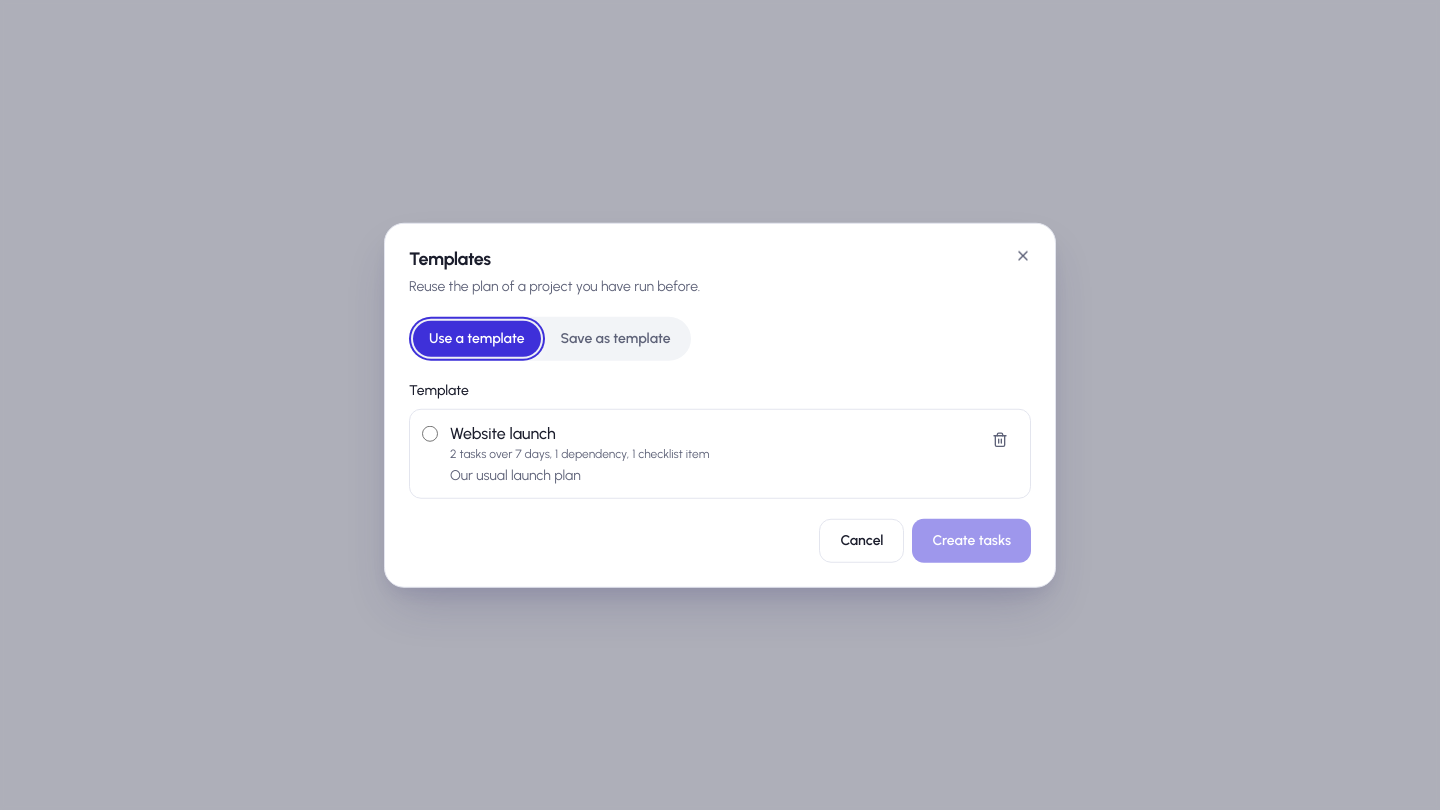
deleting a template › an org admin can delete after confirming
This screenshot has width=1440, height=810.
Step 1. Click the button named "Delete the Website launch template" → (1000, 439), box 982,421 -> 1018,457
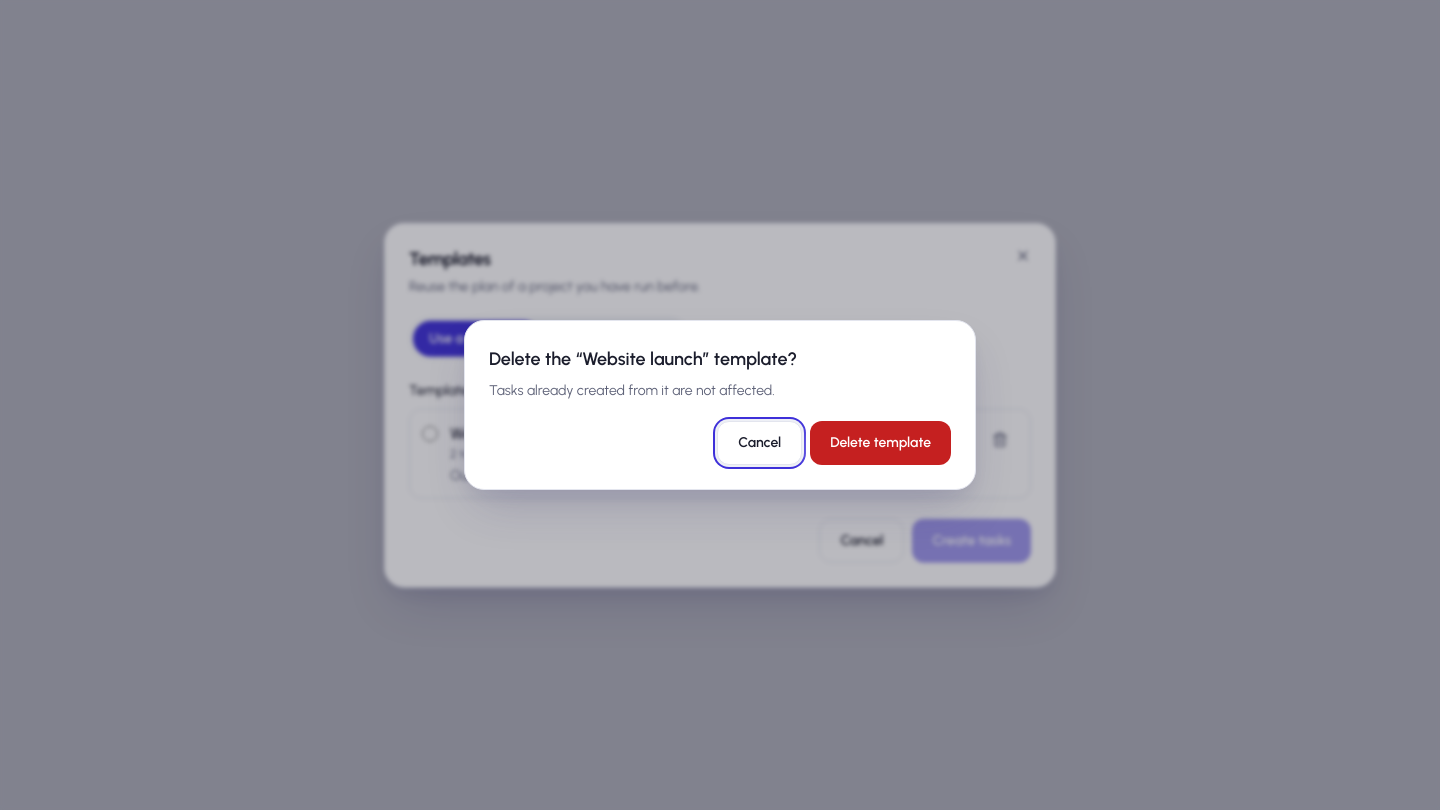
Step 2. Click the button "Delete template" → (881, 443), box 810,421 -> 951,465
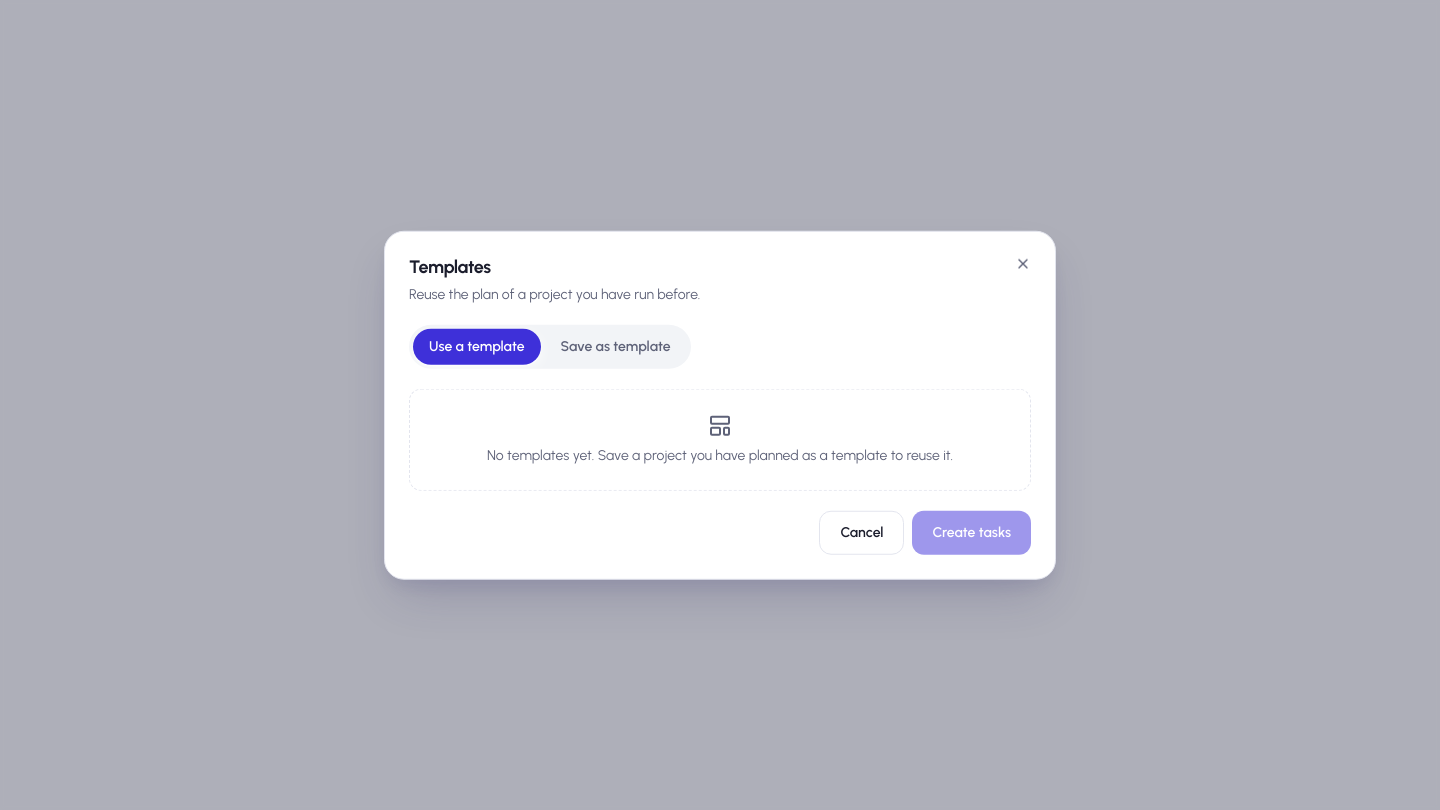
Check: the text "Website launch" is gone
